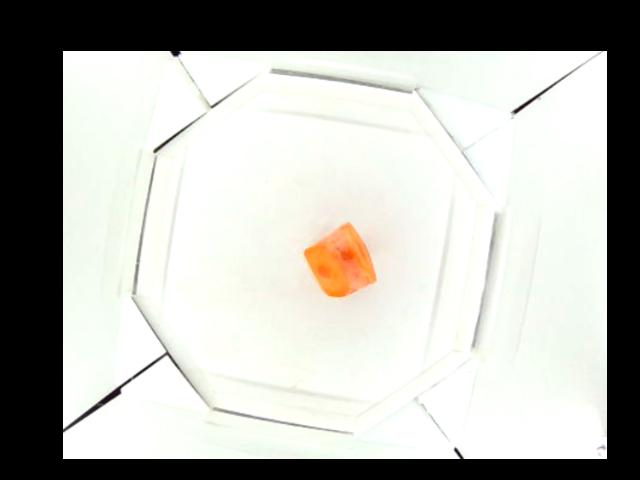Carrot: (304, 223, 374, 297)
